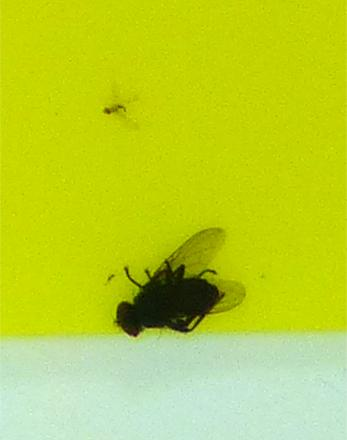Brachycera: (110, 225, 247, 340)
Nematocera: (100, 100, 128, 117)
